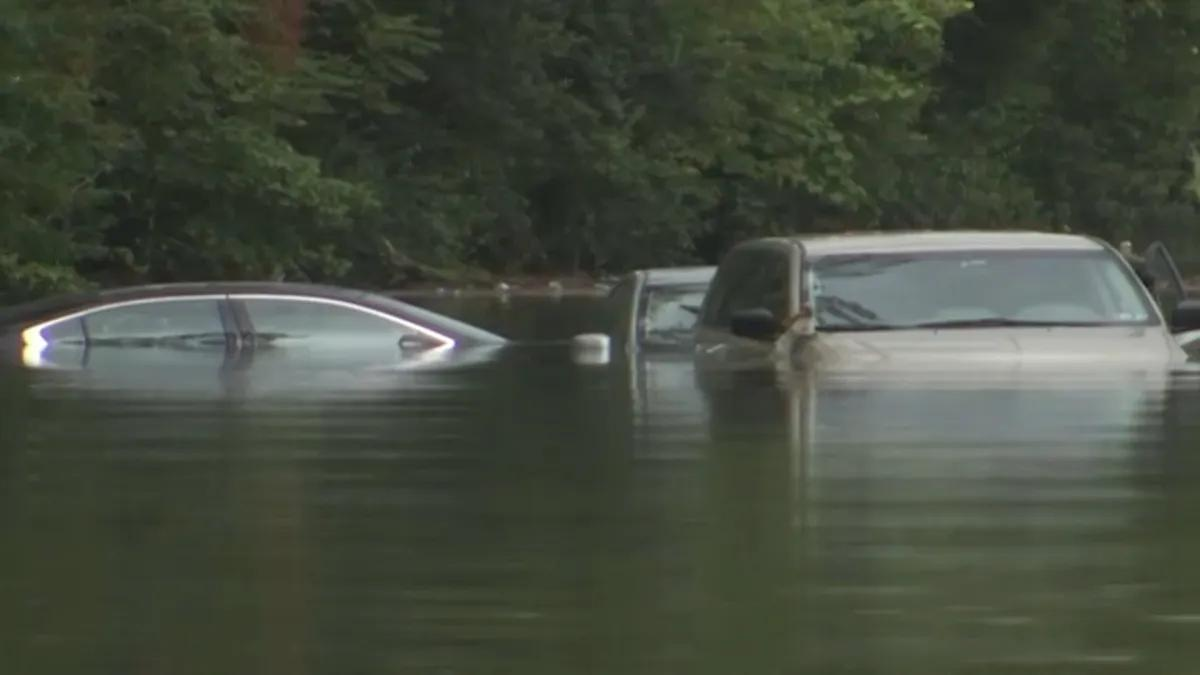water: (0, 306, 1199, 674), (433, 296, 608, 336)
